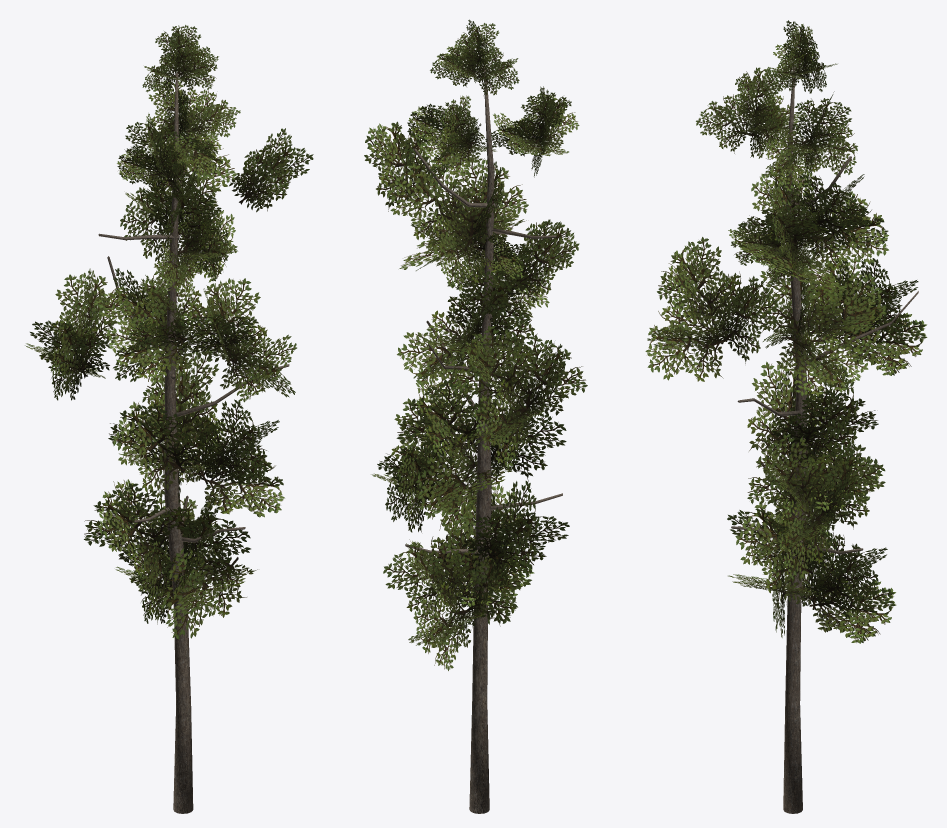
The model's file is tree_large_02.fbx.
3 renders of one model, left to right at view 1: azimuth 30°, elevation 25°; view 2: azimuth 150°, elevation 25°; view 3: azimuth 270°, elevation 25°, orthographic.
Parts seen in each view (by area): view 1: tree_large_02; view 2: tree_large_02; view 3: tree_large_02.
Boxes of the visible parts, x1,y1,x2,y2 form: tree_large_02: (25,25,313,813); tree_large_02: (364,19,587,813); tree_large_02: (645,20,927,813).
Bounding box in the file's own units: 11.99 × 11.73 × 33.83.
